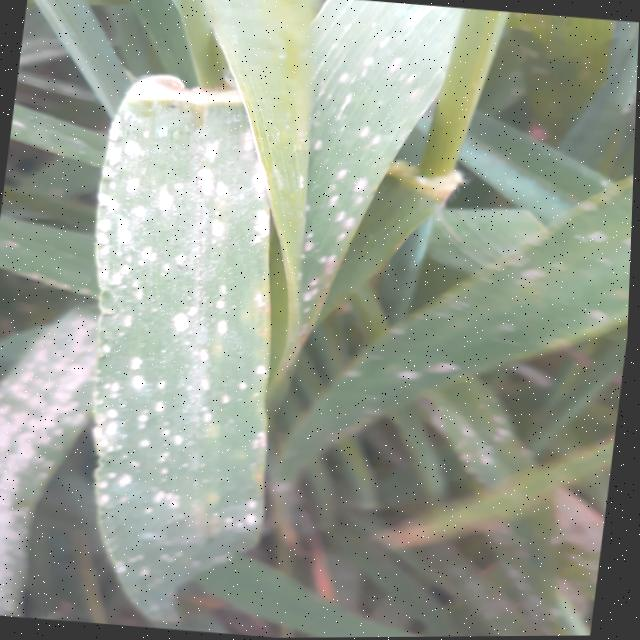powder_mildew: (44, 72, 319, 637), (289, 170, 635, 525), (244, 0, 451, 418), (0, 298, 151, 624), (356, 510, 607, 638), (3, 66, 151, 210), (0, 215, 153, 306), (494, 16, 639, 111)
